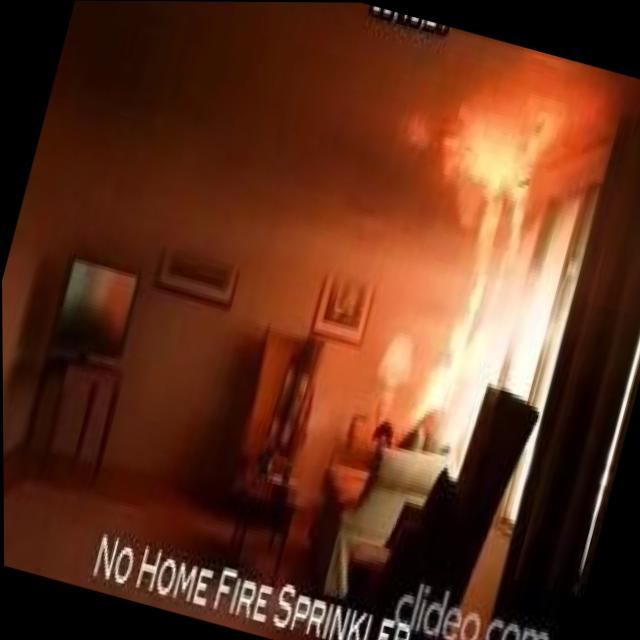fire: (428, 88, 550, 228), (410, 250, 488, 412)
